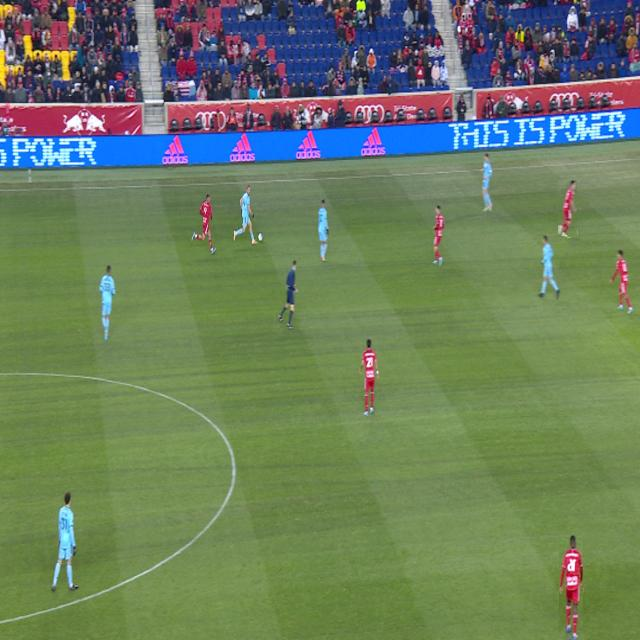football: (258, 232, 263, 241)
player: (52, 492, 79, 591), (560, 535, 583, 640), (360, 339, 380, 416), (610, 250, 633, 314), (234, 185, 258, 245), (192, 194, 216, 254), (538, 235, 560, 299), (99, 266, 116, 341), (558, 181, 577, 237), (480, 153, 493, 211), (433, 206, 445, 267), (318, 200, 329, 261)
referee: (278, 260, 298, 329)
